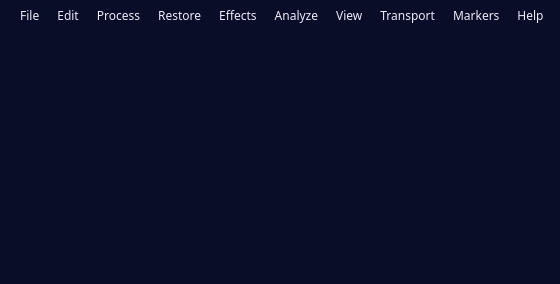
Test: AppMenubar › uses registry IDs rather than caller array order for menu entries and separators
This screenshot has width=560, height=284.
Click the menu item "File".
click(30, 16)  # box [12, 6, 47, 26]
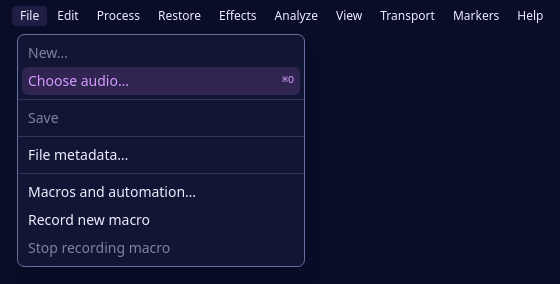
Now the menu item "Choose audio… ⌘O" is shown, box [22, 67, 300, 95]
